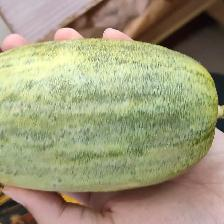gua: (25, 54, 204, 177)
